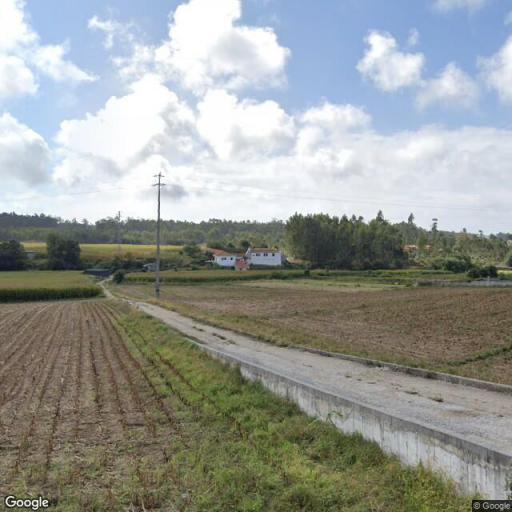mono_7: (153, 173, 169, 302)
